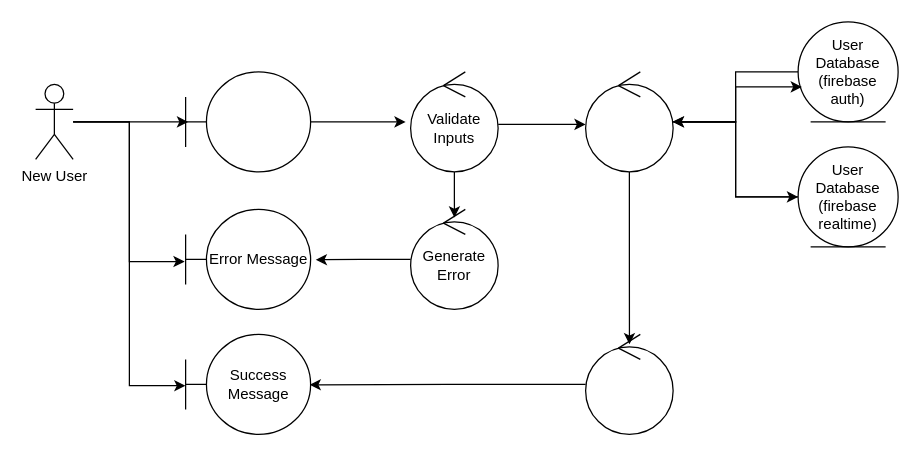
Image size: 920x456. Some labels were removed from this diagram. The centre of each missing label's shape, as x and y in pixels:
Create Account Screen: (x=247, y=121)
Generate New Account: (x=628, y=121)
Generate Success Message: (x=628, y=383)
